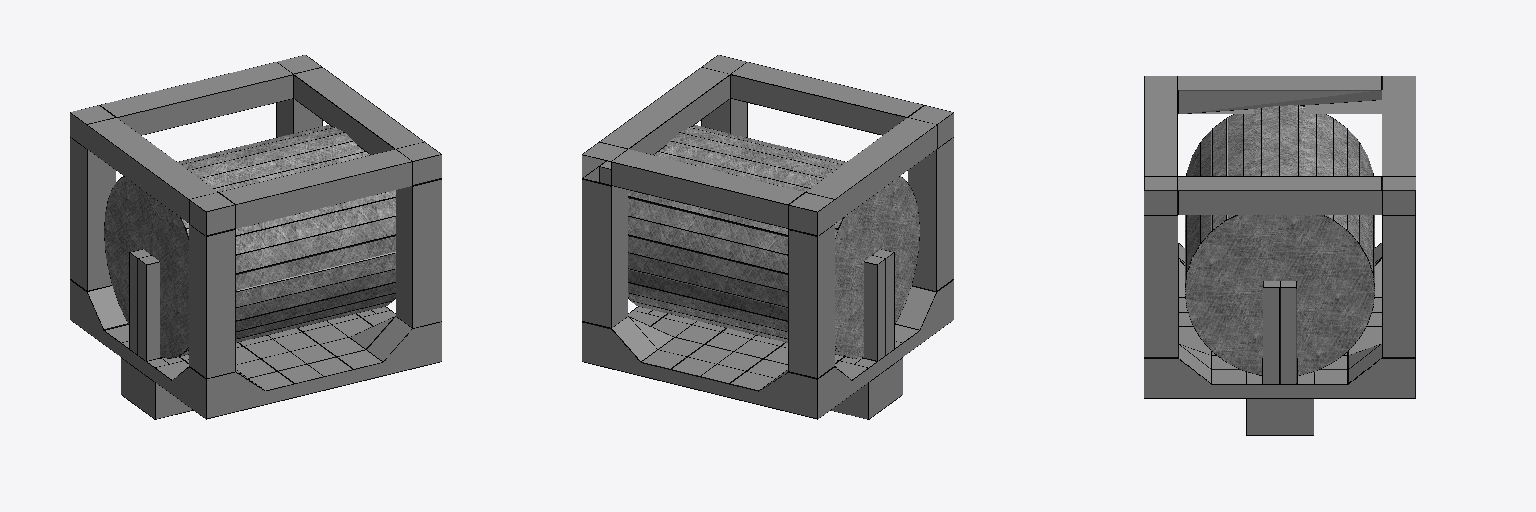
3 views of the same model, side by side, from view 1: azimuth 30°, elevation 25°; view 2: azimuth 150°, elevation 25°; view 3: azimuth 270°, elevation 25° (orthographic).
Parts seen in each view (by area): view 1: tank_cart_flat_cart_Cube.001; view 2: tank_cart_flat_cart_Cube.001; view 3: tank_cart_flat_cart_Cube.001.
Part boxes in pixels (bbox=[...]): tank_cart_flat_cart_Cube.001: bbox=[70, 55, 441, 419]; tank_cart_flat_cart_Cube.001: bbox=[582, 55, 953, 419]; tank_cart_flat_cart_Cube.001: bbox=[1144, 76, 1415, 435].
Bounding box in the file's own units: 2 × 1.99 × 2.
1 materials, 1 textured.